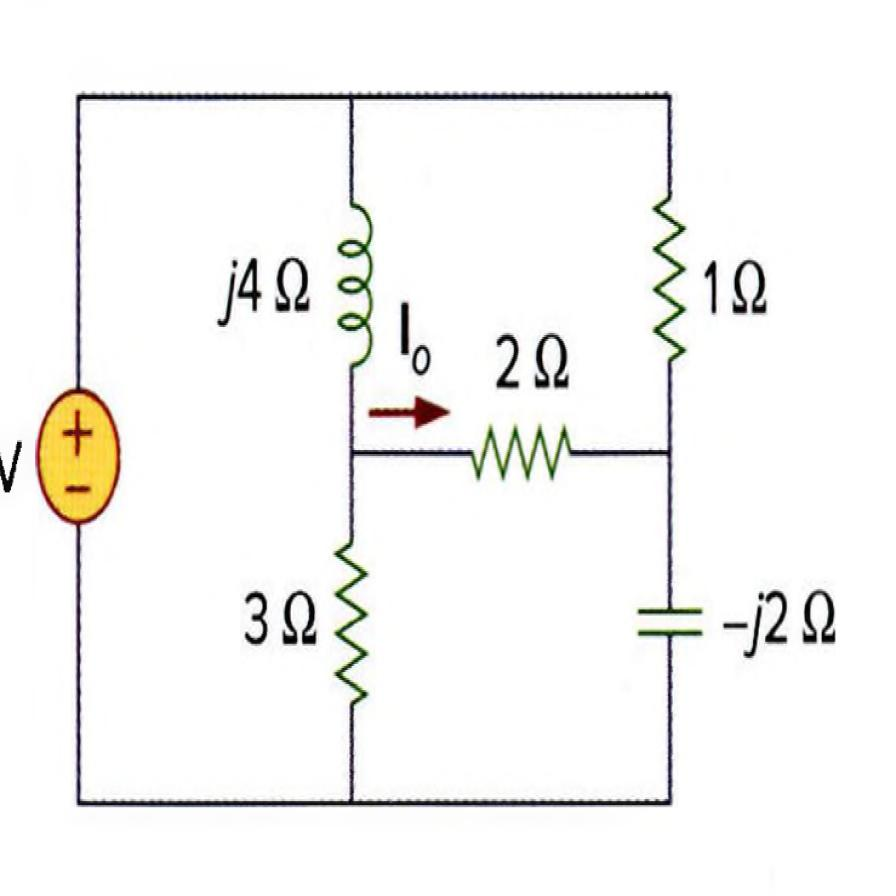C2: (619, 570, 714, 683)
L2: (328, 179, 374, 388)
R1: (464, 403, 580, 498)
R2: (639, 172, 695, 388), (324, 512, 379, 730)
V1: (20, 375, 129, 533)
